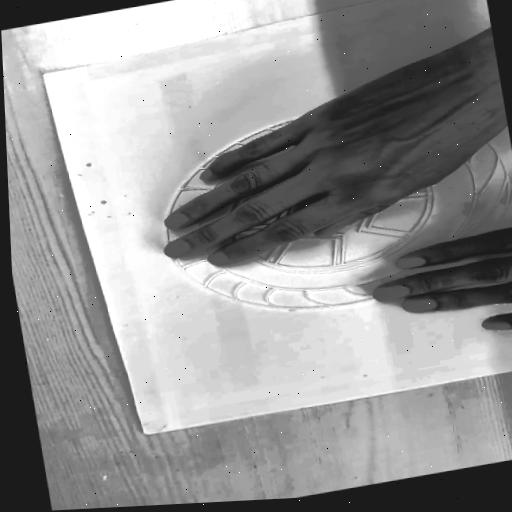tire: (137, 70, 512, 345)
top_left: (138, 429, 155, 438)
top_right: (35, 67, 53, 79)
